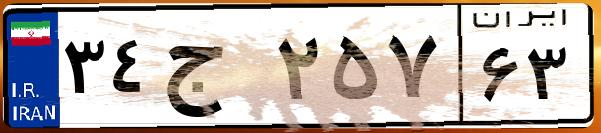2: (270, 28, 330, 110)
3: (57, 26, 110, 100), (525, 38, 570, 115)
4: (110, 28, 158, 98)
5: (330, 28, 385, 110)
6: (475, 38, 525, 113)
7: (385, 28, 445, 110)
ج: (158, 20, 270, 120)
